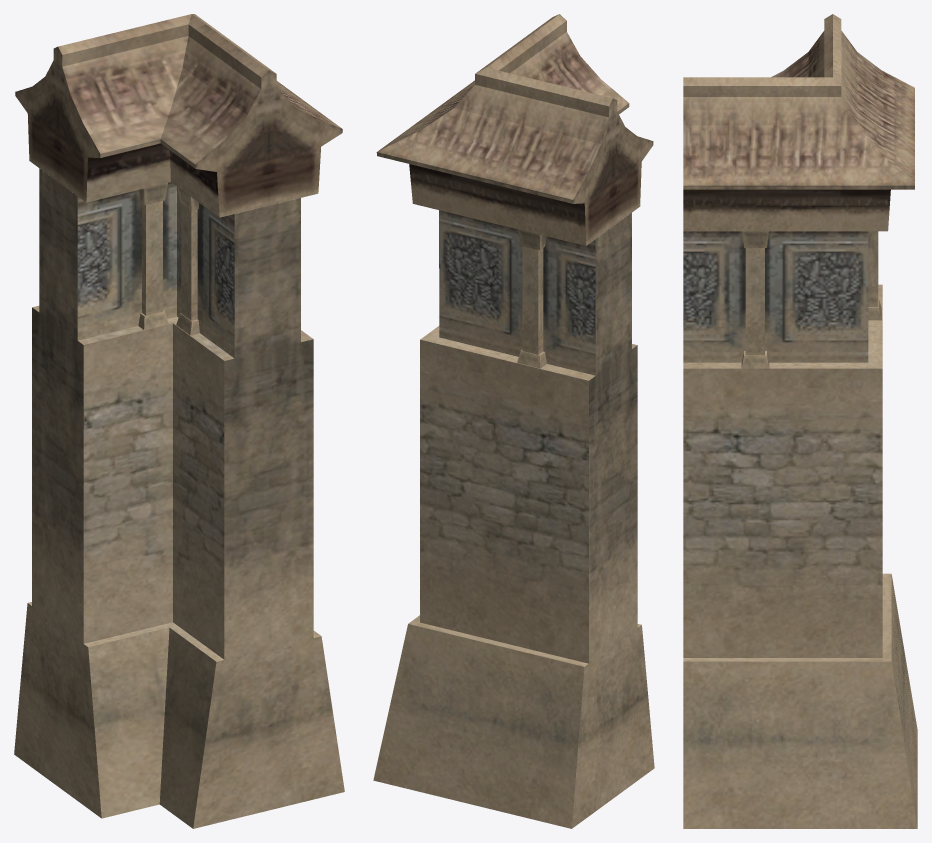
Rendered from desert-middledam-05.glb.
3 renders of one model, left to right at view 1: azimuth 30°, elevation 25°; view 2: azimuth 150°, elevation 25°; view 3: azimuth 270°, elevation 25°, orthographic. The views are drawn at different scales.
Parts seen in each view (by area): view 1: desert-middledam-02; view 2: desert-middledam-02; view 3: desert-middledam-02.
Boxes of the visible parts, x1=… form: desert-middledam-02: x1=14, y1=14, x2=344, y2=828; desert-middledam-02: x1=373, y1=14, x2=654, y2=828; desert-middledam-02: x1=683, y1=14, x2=917, y2=828.
Size of the model in its own units: 2.35 by 7.92 by 2.35.
Materials: 1 (1 with a texture image).
